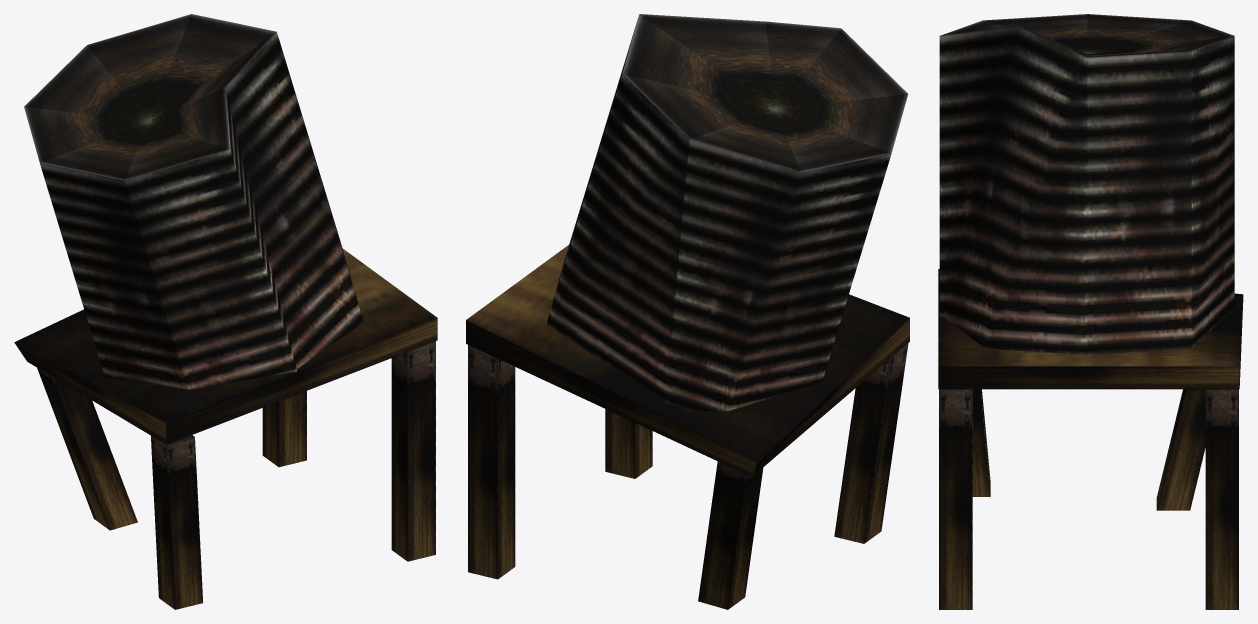
The model's file is Environment - Prop - Water Tower 02 - Damaged - PMWTRTWR02_D.glb.
3 views of the same model, side by side, from view 1: azimuth 30°, elevation 25°; view 2: azimuth 150°, elevation 25°; view 3: azimuth 270°, elevation 25° (orthographic). The views are drawn at different scales.
Visible parts, largest first — view 1: PMWTRTWR02_D; view 2: PMWTRTWR02_D; view 3: PMWTRTWR02_D.
Part boxes in pixels (x1=…): PMWTRTWR02_D: x1=14, y1=14, x2=437, y2=609; PMWTRTWR02_D: x1=466, y1=14, x2=909, y2=609; PMWTRTWR02_D: x1=938, y1=14, x2=1243, y2=609.
Size of the model in its own units: 28.61 by 41.25 by 22.43.
1 material, 1 textured.
